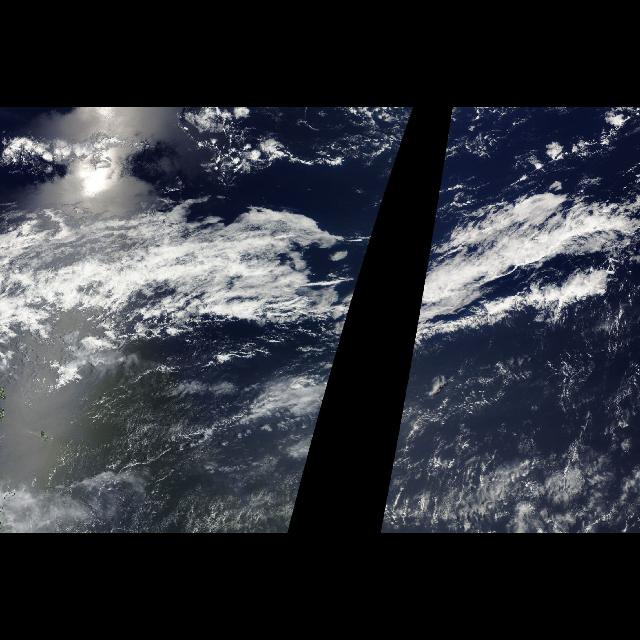Fish: (410, 170, 640, 350)
Sugar: (1, 361, 328, 534), (401, 363, 639, 533)
